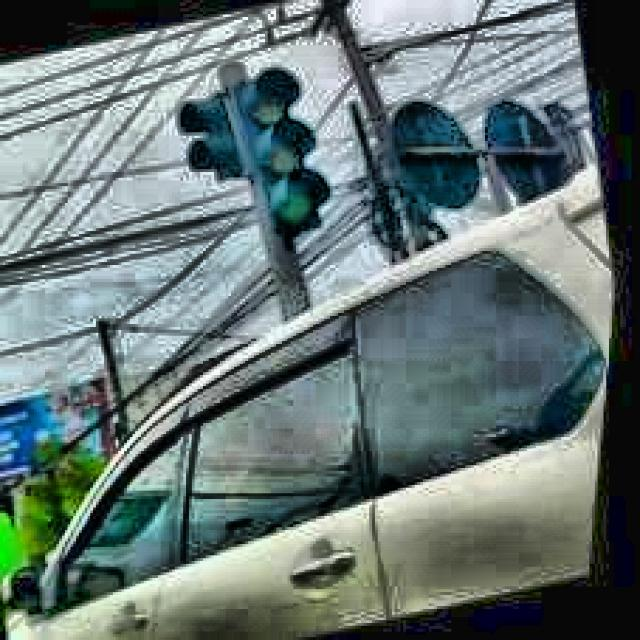green: (214, 62, 350, 248)
